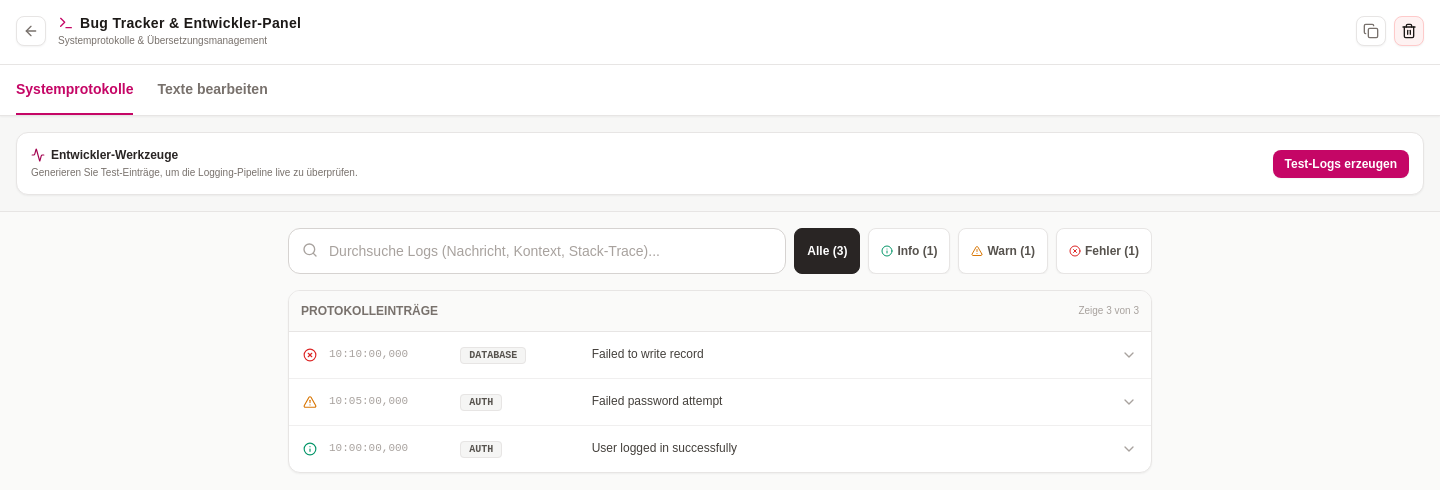
Scenario: Logs Dashboard Page Tests › allows filtering logs by log level
The image size is (1440, 490).
Check: the text "User logged in successfully" is shown, box [592,441,737,455]
Note: Click "Fehler" filter
Click the button "Fehler (1)": point(1104, 251) [1056,228,1152,274]
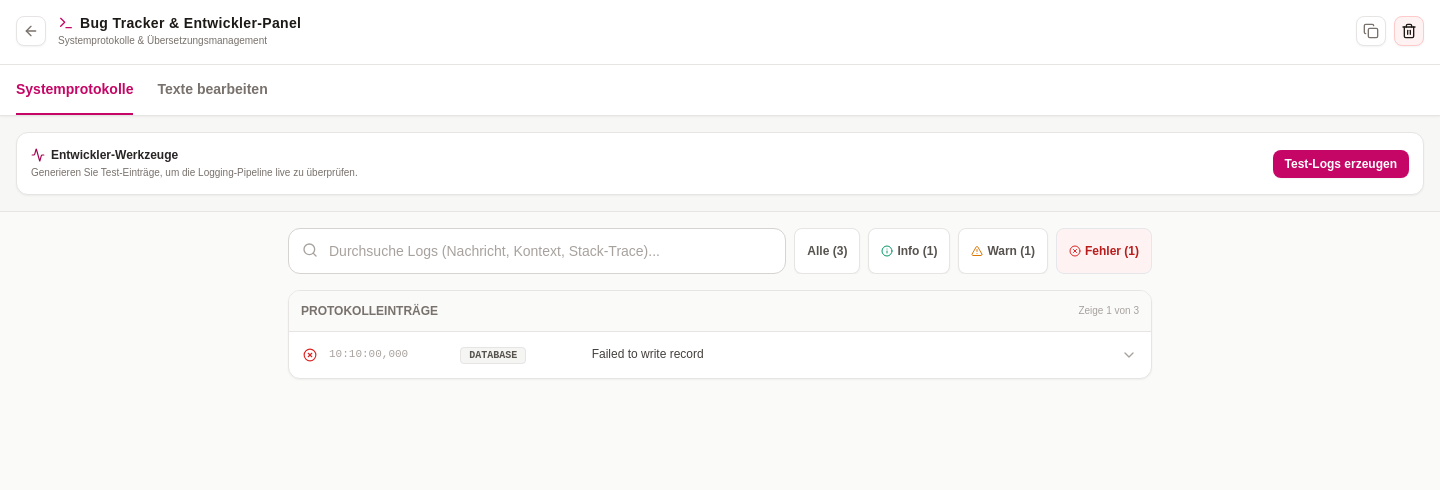
Check: the text "Failed to write record" is shown, box [592,347,704,361]
Check: the text "User logged in successfully" is gone
